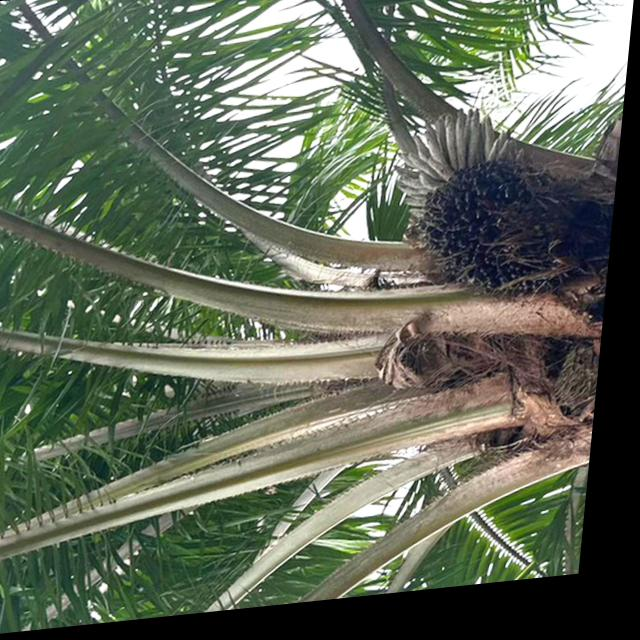unripe: (412, 157, 604, 321)
